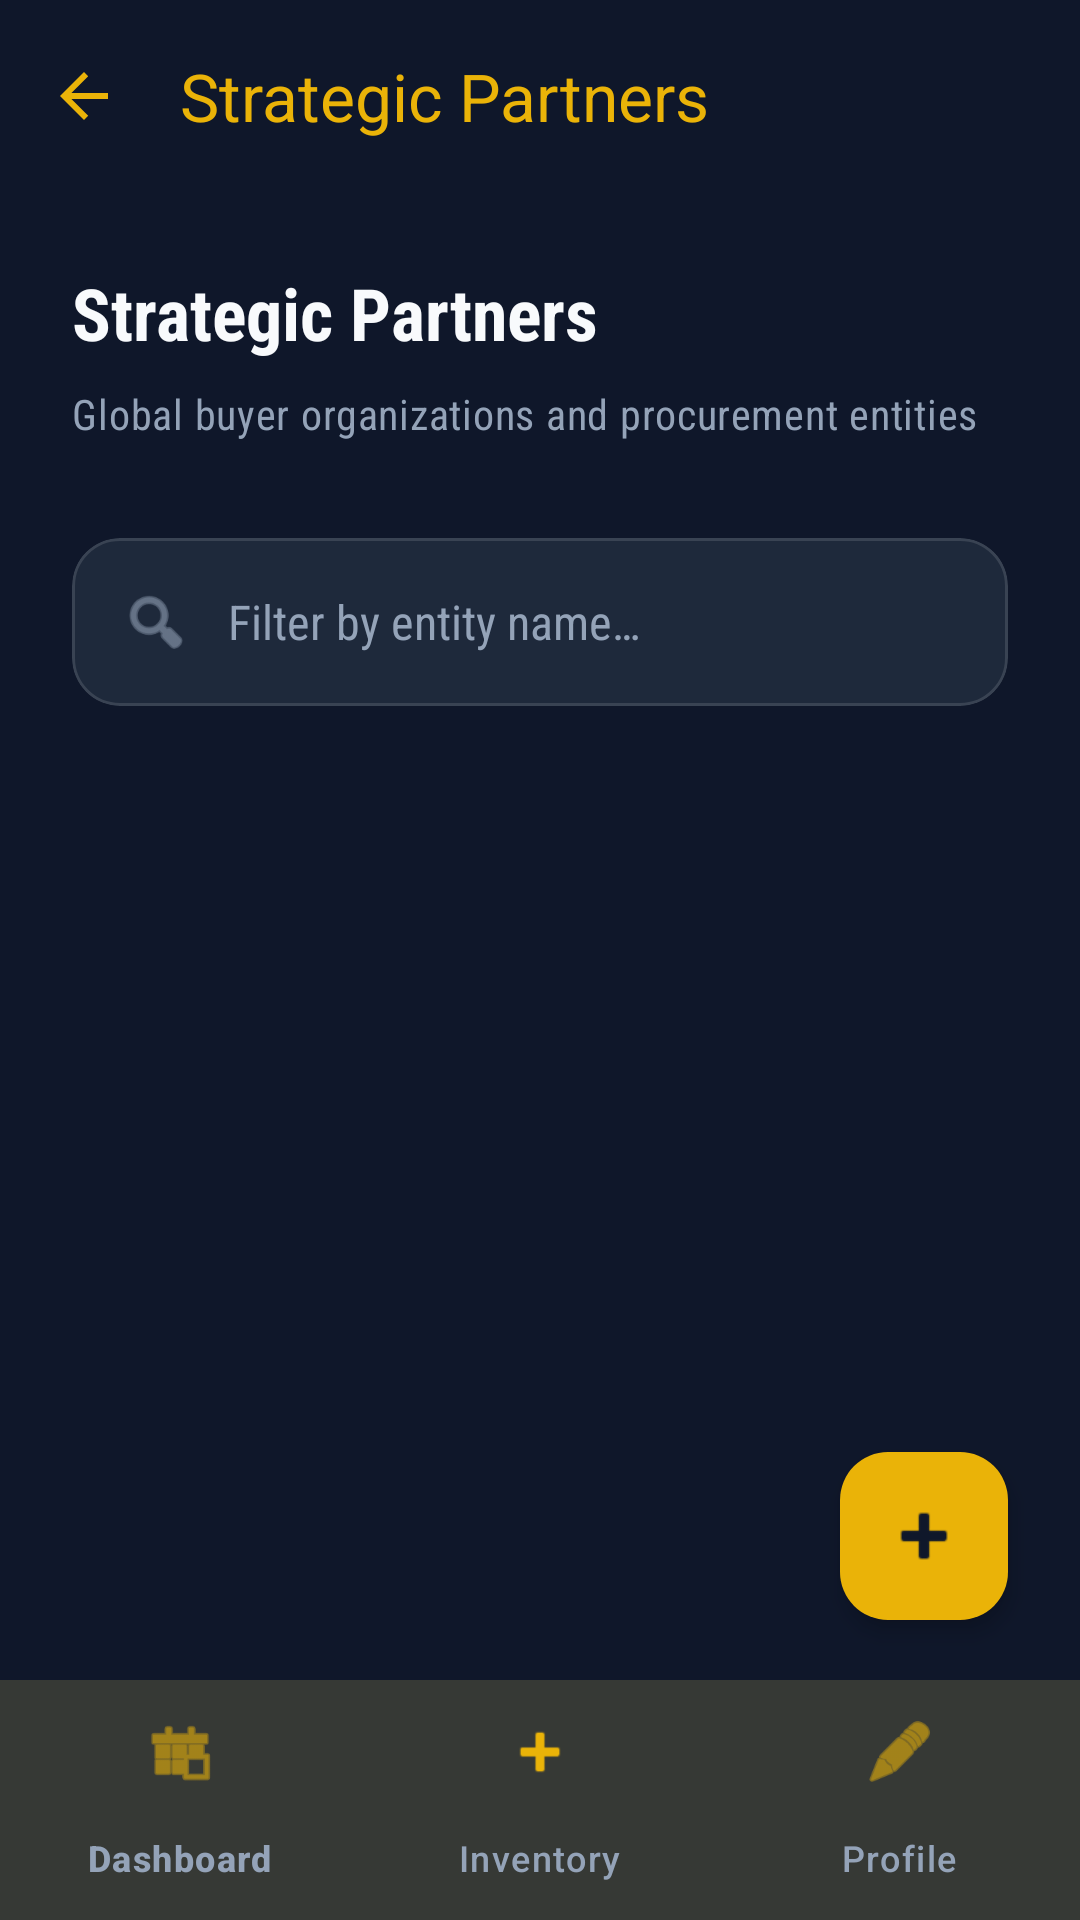

Icons on this 1080 × 1920 Android screen, each with the point to tap as (x=x, y=y):
Register New Partner: (x=924, y=1536)
search: (x=156, y=622)
